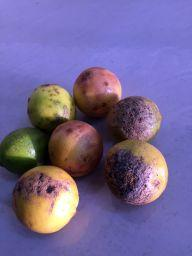lemon: (8, 160, 85, 236), (103, 138, 172, 207), (48, 120, 102, 179), (73, 63, 125, 122), (107, 93, 163, 142), (2, 124, 51, 176), (28, 81, 76, 132)
